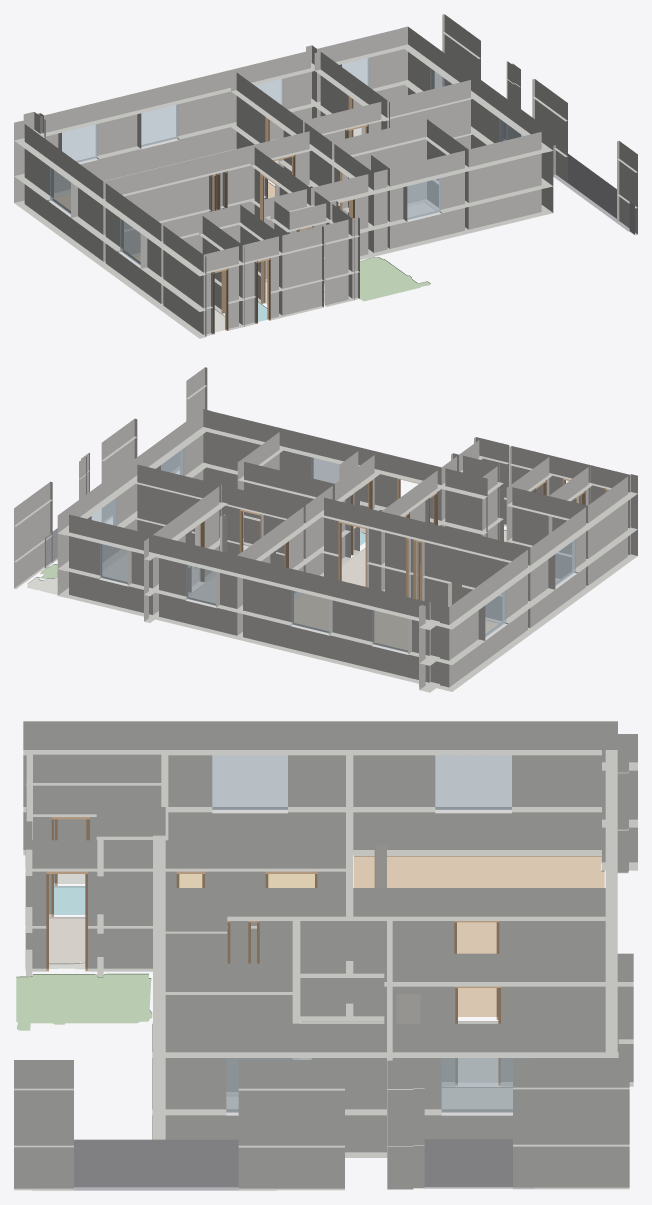
3 renders of one model, top to bottom at view 1: azimuth 30°, elevation 25°; view 2: azimuth 150°, elevation 25°; view 3: azimuth 270°, elevation 25°, orthographic. The views are drawn at different scales.
Visible parts, largest first — view 1: walls, railings, floor_12_Outdoor, window_18, window_9, window_17, window_16, window_11, window_19; view 2: walls, floor_0_Living_Room, window_18, window_17, window_13, window_19, window_16, railings, window_11, floor_4_Entry, window_9, floor_2_Undefined; view 3: walls, railings, floor_0_Living_Room, floor_12_Outdoor, window_16, window_11, window_15, floor_15_Entry, floor_2_Undefined, floor_1_Undefined, floor_13_Kitchen, floor_8_Bath (+3 smaller).
Part boxes in pixels (x1=…): walls: x1=14, y1=14, x2=637, y2=338; railings: x1=504, y1=122, x2=634, y2=234; floor_12_Outdoor: x1=360, y1=257, x2=430, y2=301; window_18: x1=139, y1=104, x2=178, y2=146; window_9: x1=407, y1=178, x2=440, y2=219; window_17: x1=62, y1=124, x2=97, y2=162; window_16: x1=50, y1=167, x2=74, y2=214; window_11: x1=120, y1=218, x2=140, y2=265; window_19: x1=342, y1=58, x2=369, y2=86; walls: x1=14, y1=367, x2=637, y2=692; floor_0_Living_Room: x1=294, y1=593, x2=499, y2=650; window_18: x1=291, y1=590, x2=328, y2=633; window_17: x1=372, y1=610, x2=407, y2=652; window_13: x1=186, y1=565, x2=215, y2=605; window_19: x1=100, y1=542, x2=129, y2=583; window_16: x1=485, y1=590, x2=506, y2=637; railings: x1=44, y1=451, x2=179, y2=568; window_11: x1=555, y1=539, x2=575, y2=586; floor_4_Entry: x1=341, y1=548, x2=365, y2=586; window_9: x1=311, y1=457, x2=339, y2=483; floor_2_Undefined: x1=102, y1=553, x2=199, y2=586; walls: x1=14, y1=721, x2=637, y2=1190; railings: x1=32, y1=1139, x2=534, y2=1190; floor_0_Living_Room: x1=354, y1=855, x2=604, y2=1016; floor_12_Outdoor: x1=16, y1=973, x2=152, y2=1030; window_16: x1=435, y1=752, x2=511, y2=809; window_11: x1=212, y1=755, x2=287, y2=809; window_15: x1=441, y1=1058, x2=533, y2=1112; floor_15_Entry: x1=49, y1=917, x2=85, y2=963; floor_2_Undefined: x1=442, y1=1087, x2=512, y2=1108; floor_1_Undefined: x1=458, y1=1021, x2=498, y2=1082; floor_13_Kitchen: x1=179, y1=874, x2=314, y2=887; floor_8_Bath: x1=54, y1=886, x2=85, y2=914.
Size of the model in its own units: 15.35 by 2.72 by 11.88.
